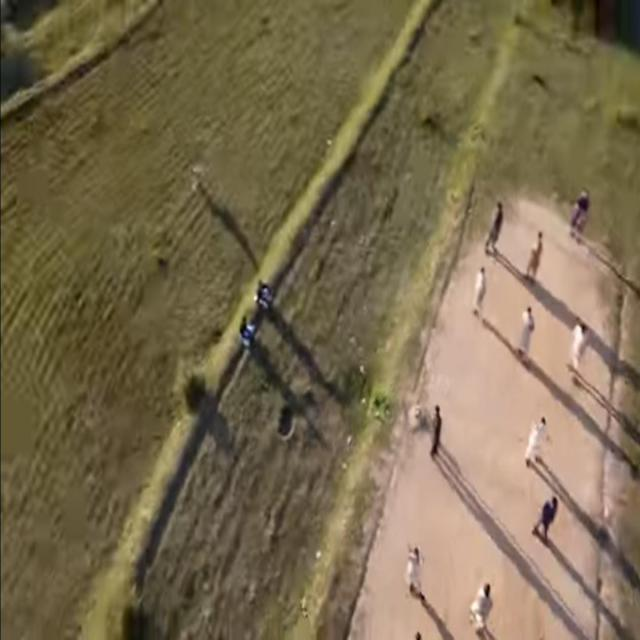humans: (526, 406, 553, 474), (570, 315, 593, 393), (532, 492, 562, 550), (470, 581, 496, 640), (516, 299, 538, 365), (402, 540, 426, 597), (484, 200, 507, 258), (570, 182, 590, 245), (524, 228, 546, 284), (472, 264, 491, 318), (236, 305, 256, 356), (430, 400, 445, 462), (255, 276, 272, 312)
